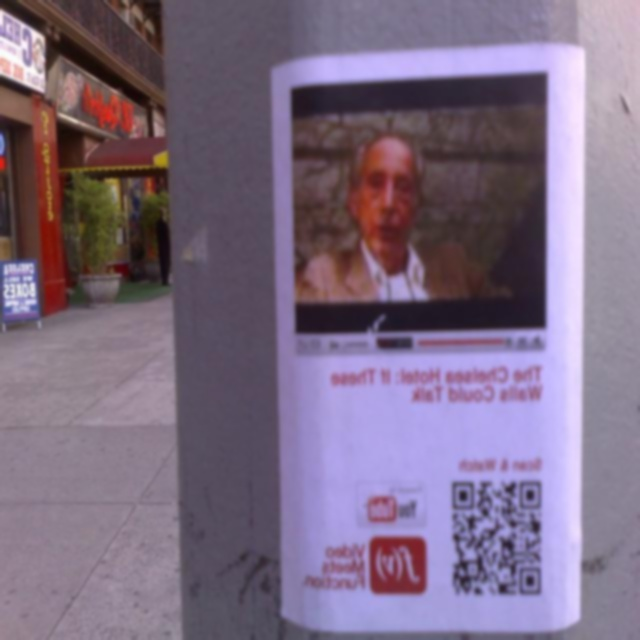qr-code: (452, 482, 540, 594)
